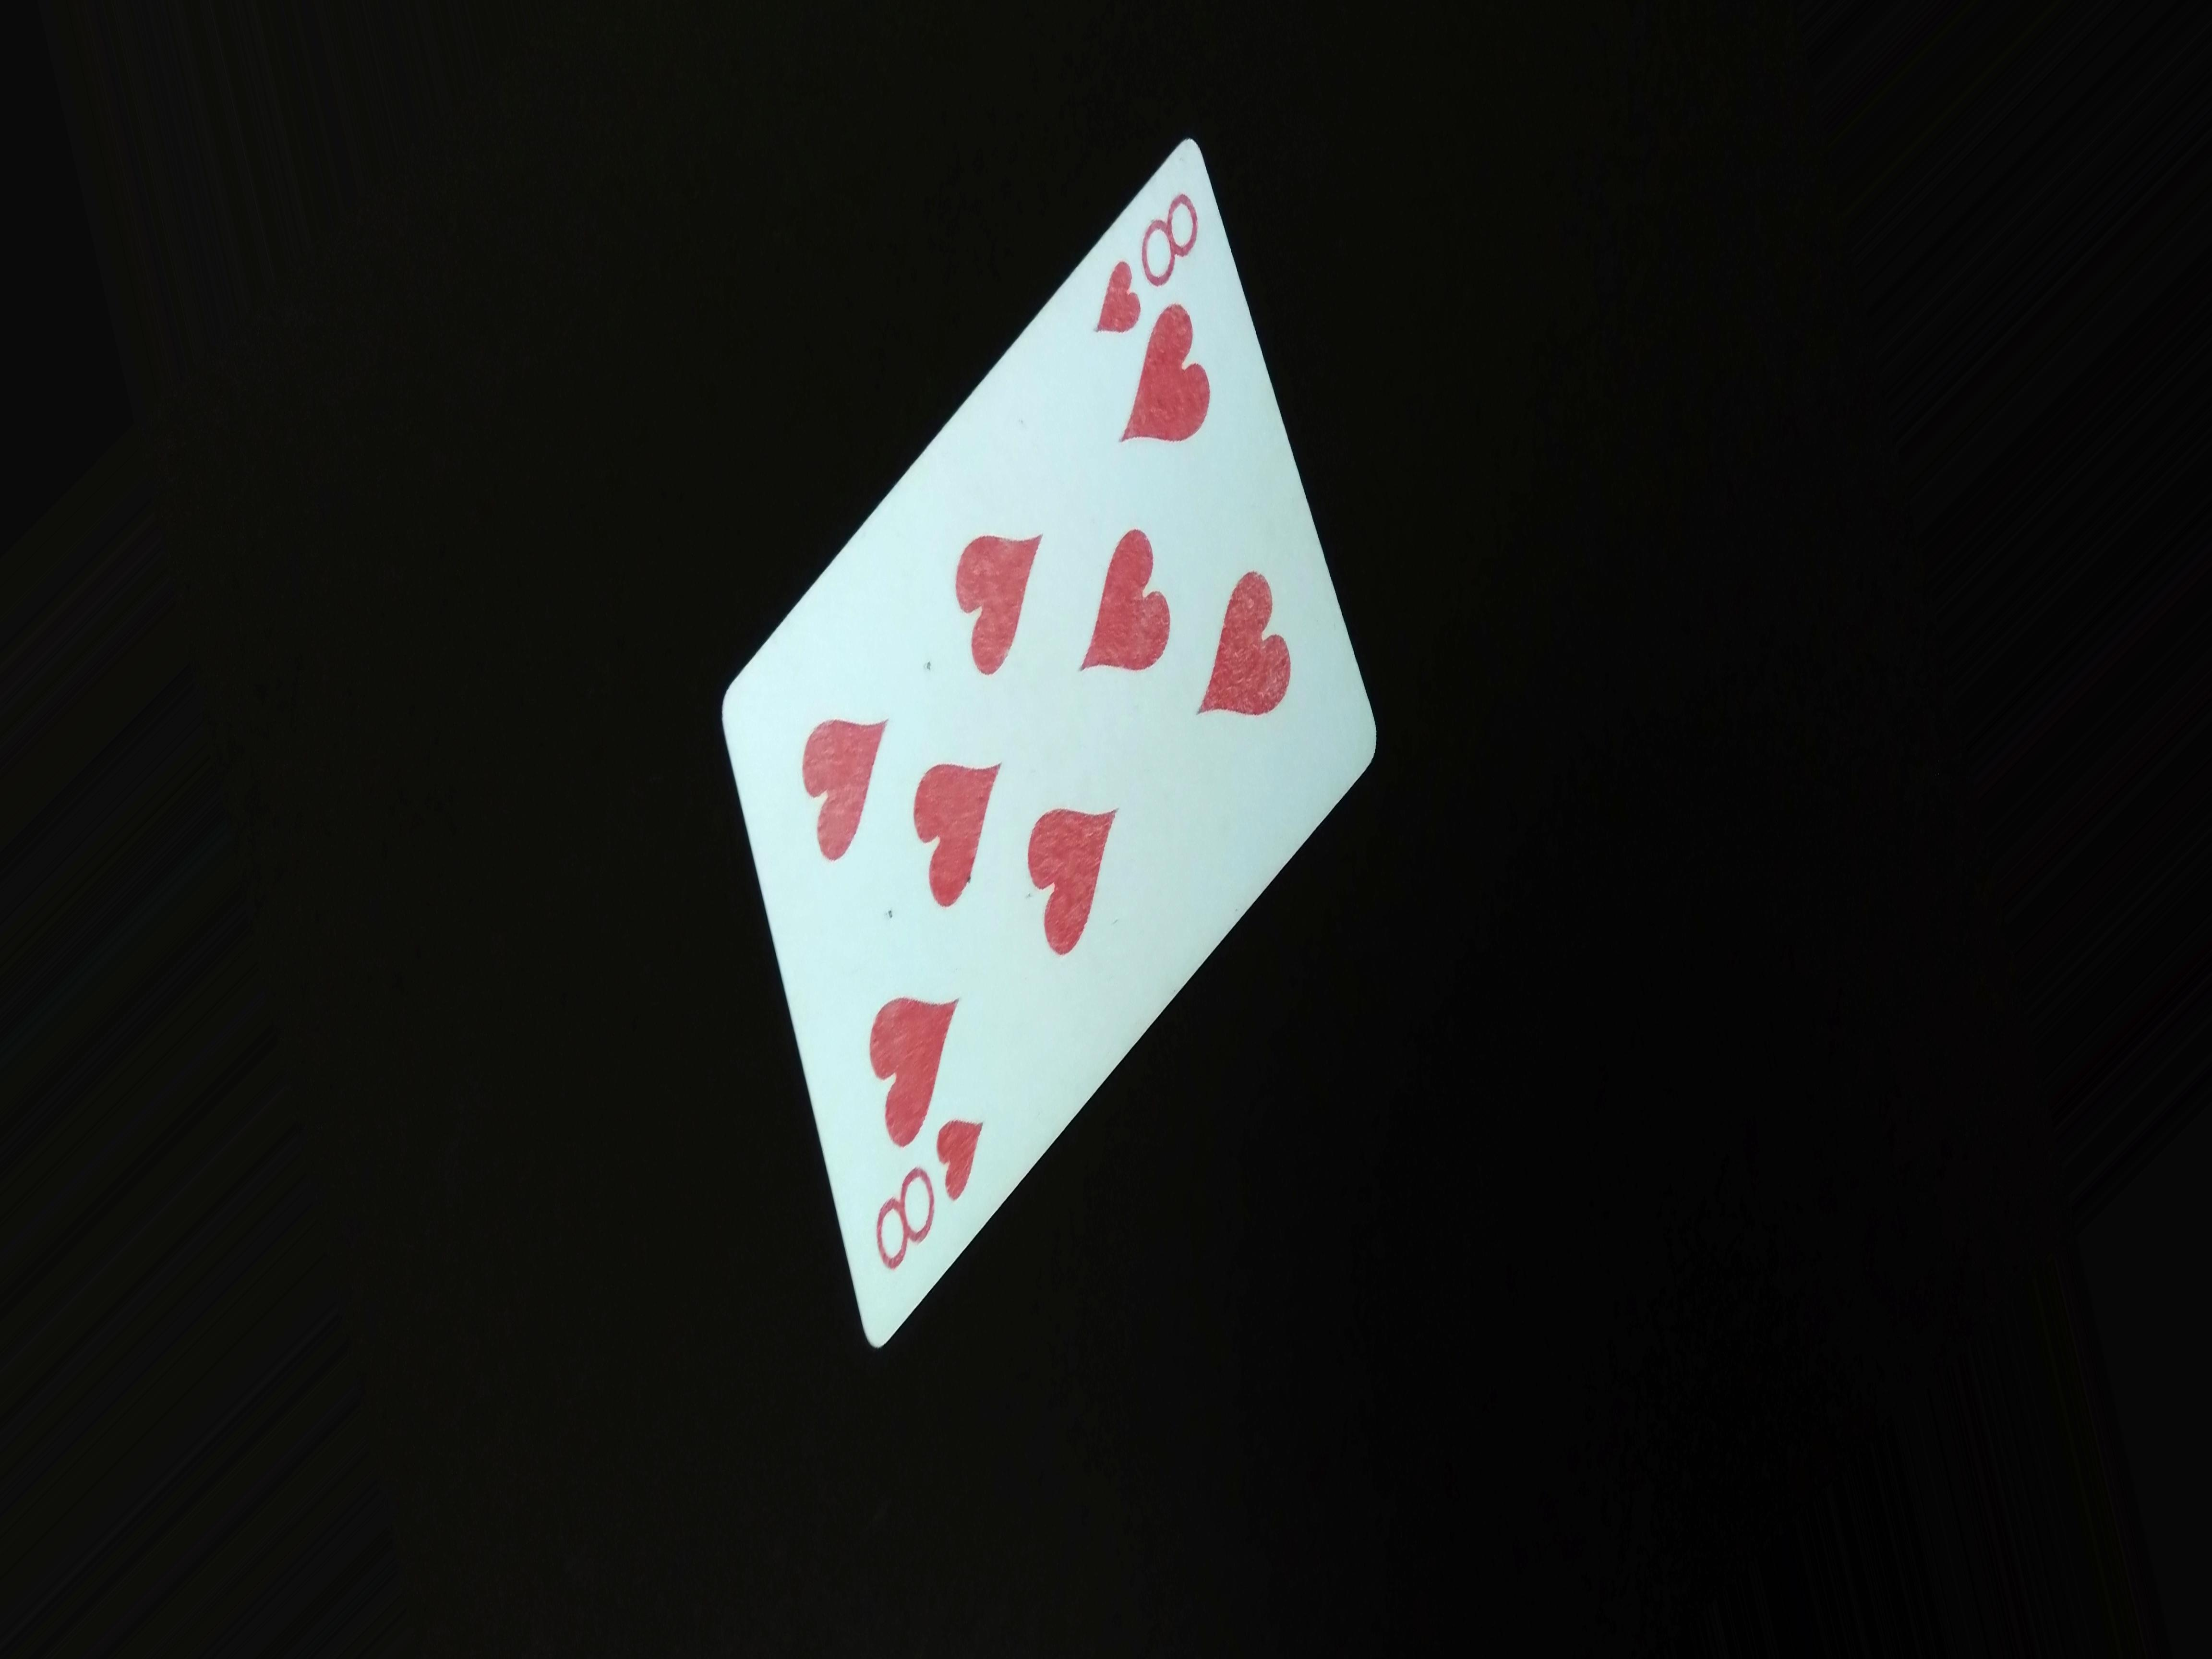8H: (1096, 166, 1197, 345)
